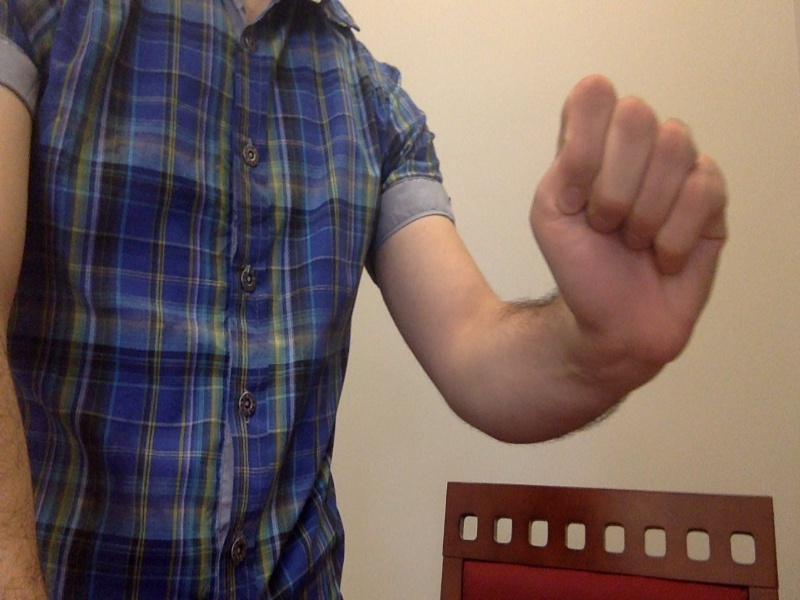0-hand: (527, 76, 730, 375)
